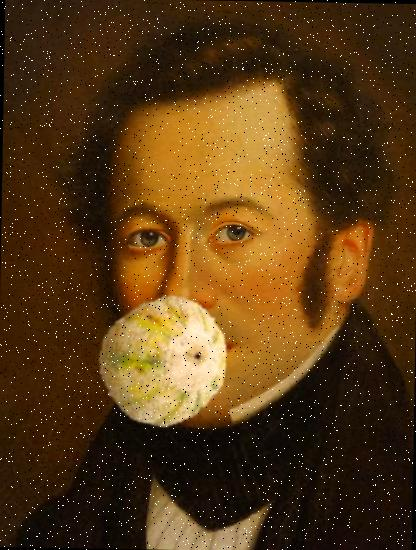Cantaloupe: (97, 294, 232, 428)
